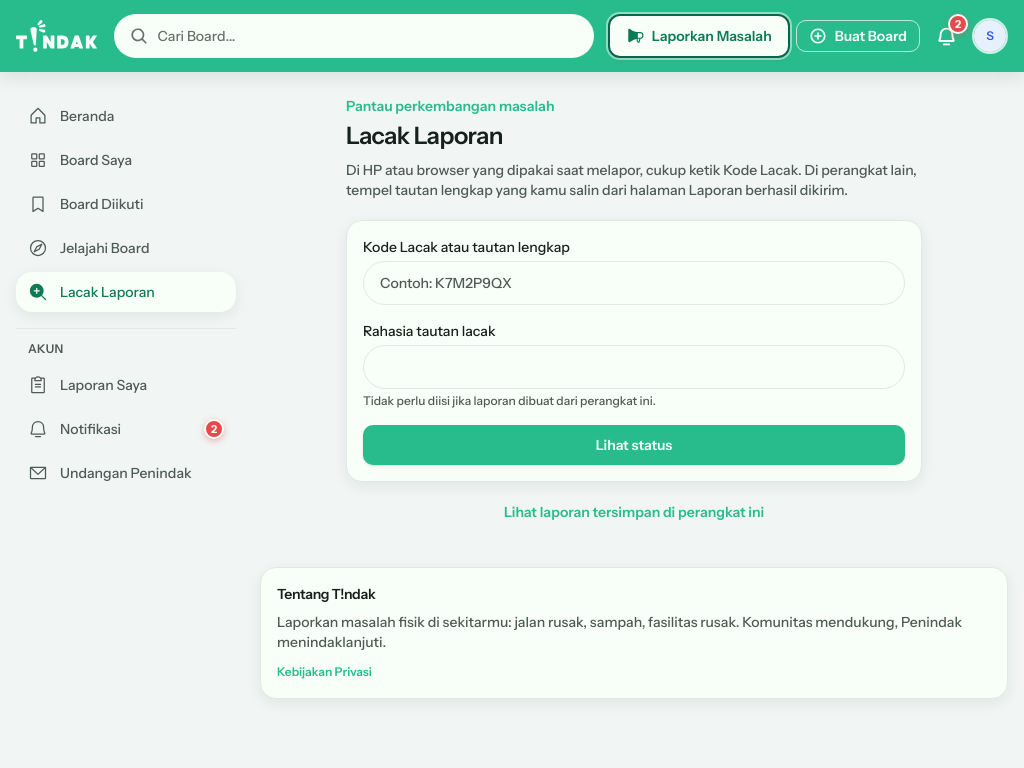
Test: Lonceng notifikasi › Tandai semua dibaca memanggil endpoint
This screenshot has width=1024, height=768.
Click the button named "Notifikasi, 2" at (946, 36), box [928,18,964,54]
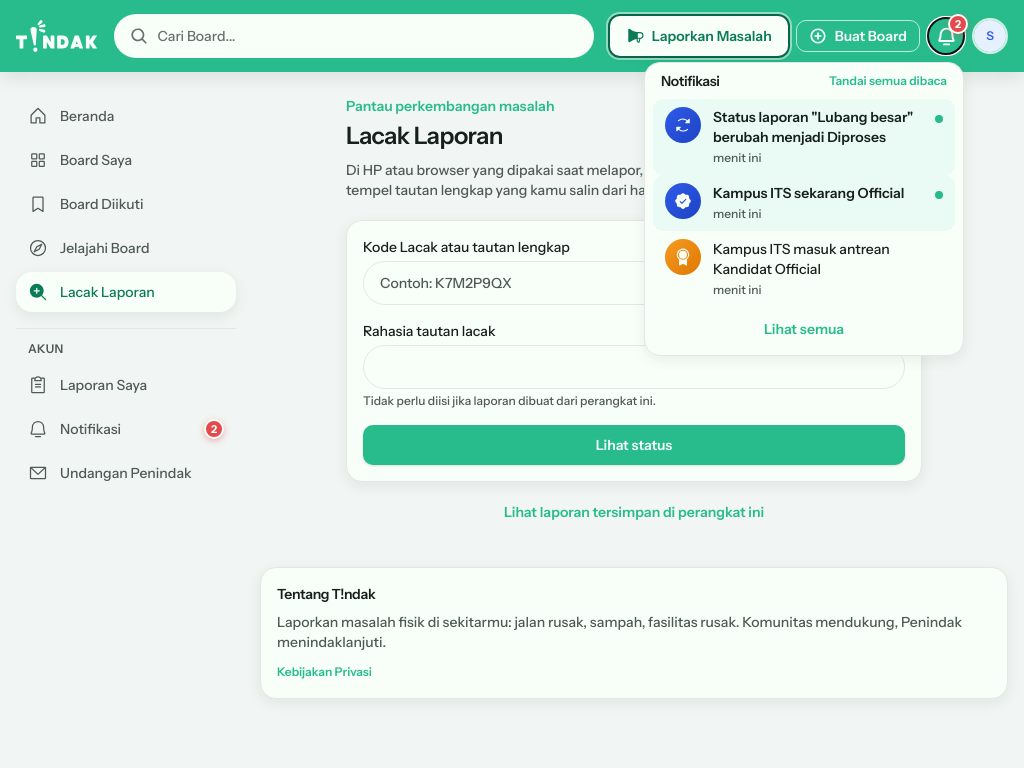
Click the button "Tandai semua dibaca" at (888, 81), box [829,73,947,89]
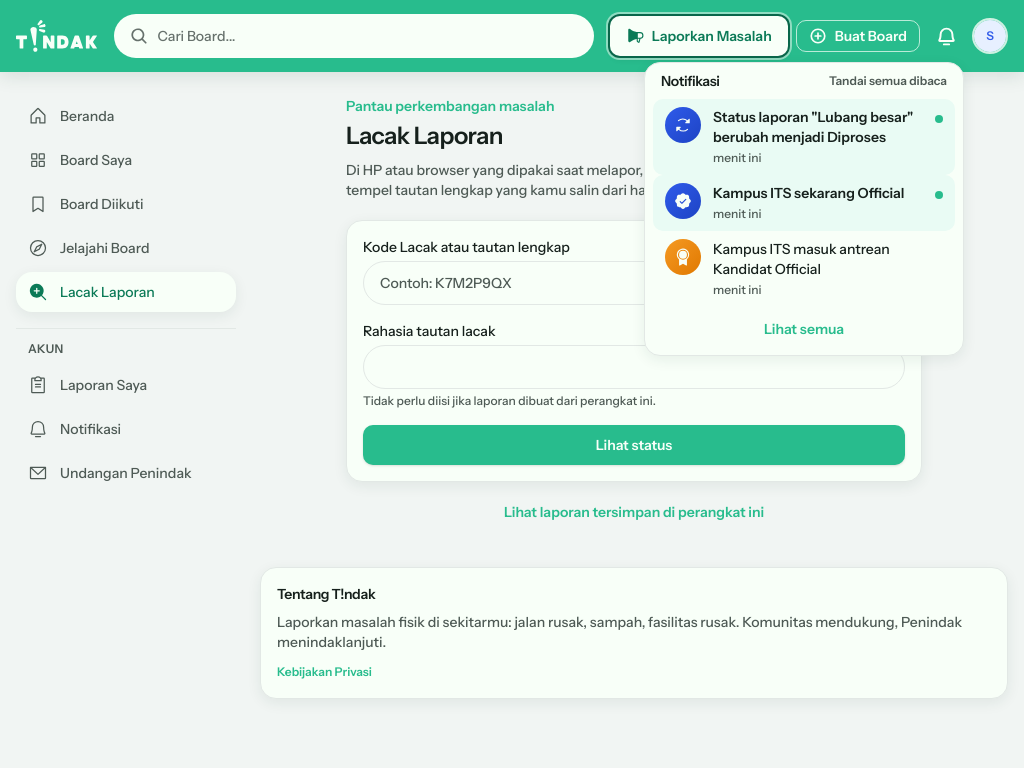
Expected: the button named "Notifikasi" is shown, [928,18,964,54]
Result: the text with test id "notification-badge" is gone
